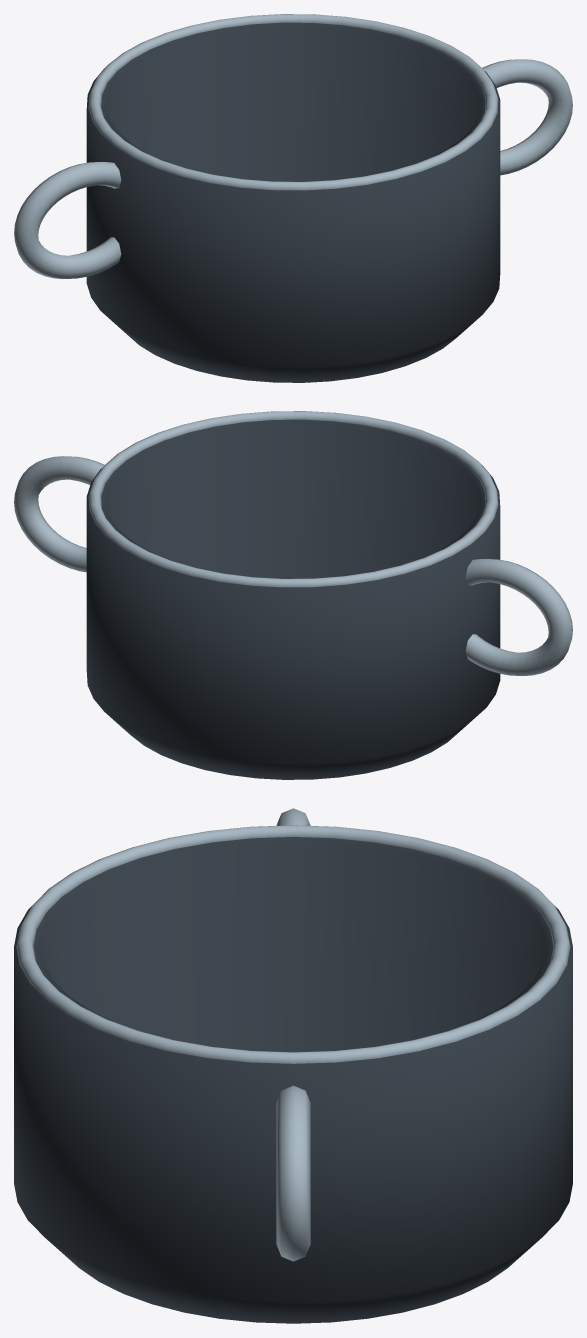
File: POT.glb
The picture shows the model from 3 angles, top to bottom: view 1: azimuth 30°, elevation 25°; view 2: azimuth 150°, elevation 25°; view 3: azimuth 270°, elevation 25°; orthographic projection. The views are drawn at different scales.
Parts seen in each view (by area): view 1: POT; view 2: POT; view 3: POT.
Boxes of the visible parts, bbox=[...] form: POT: bbox=[14, 14, 572, 382]; POT: bbox=[14, 411, 572, 779]; POT: bbox=[14, 808, 572, 1323].
Size of the model in its own units: 0.714 by 0.257 by 0.46.
